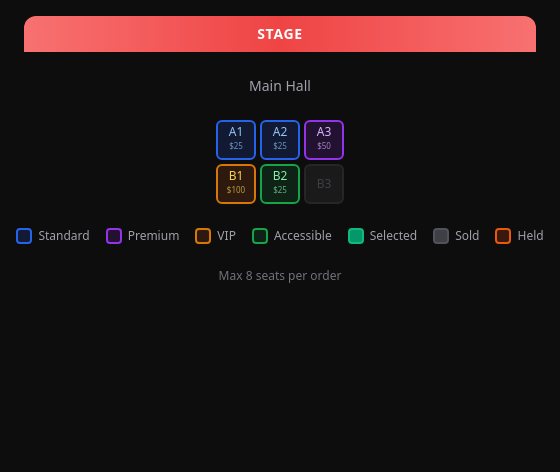
it: SeatPicker › shows plural 'Seats' when multiple selected
Click the button named "Seat A1" at (236, 140), box [216,120,256,160]
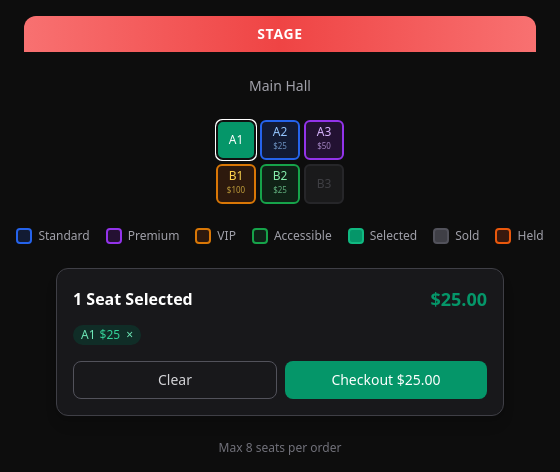
Click the button named "Seat A3" at (324, 140), box [304,120,344,160]
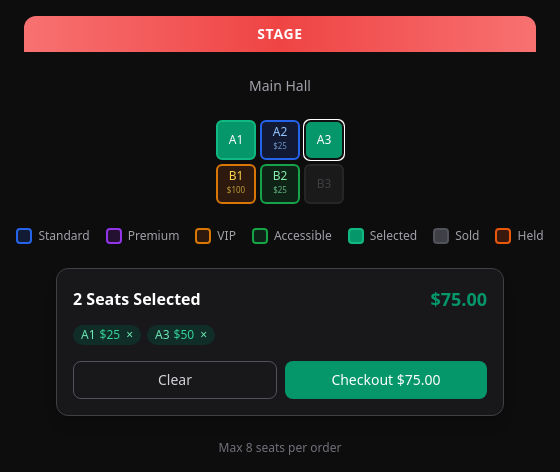
Now the heading "2 Seats Selected" is shown, box [73,287,201,311]
Now the text "$75.00" is shown, box [430,285,487,313]
